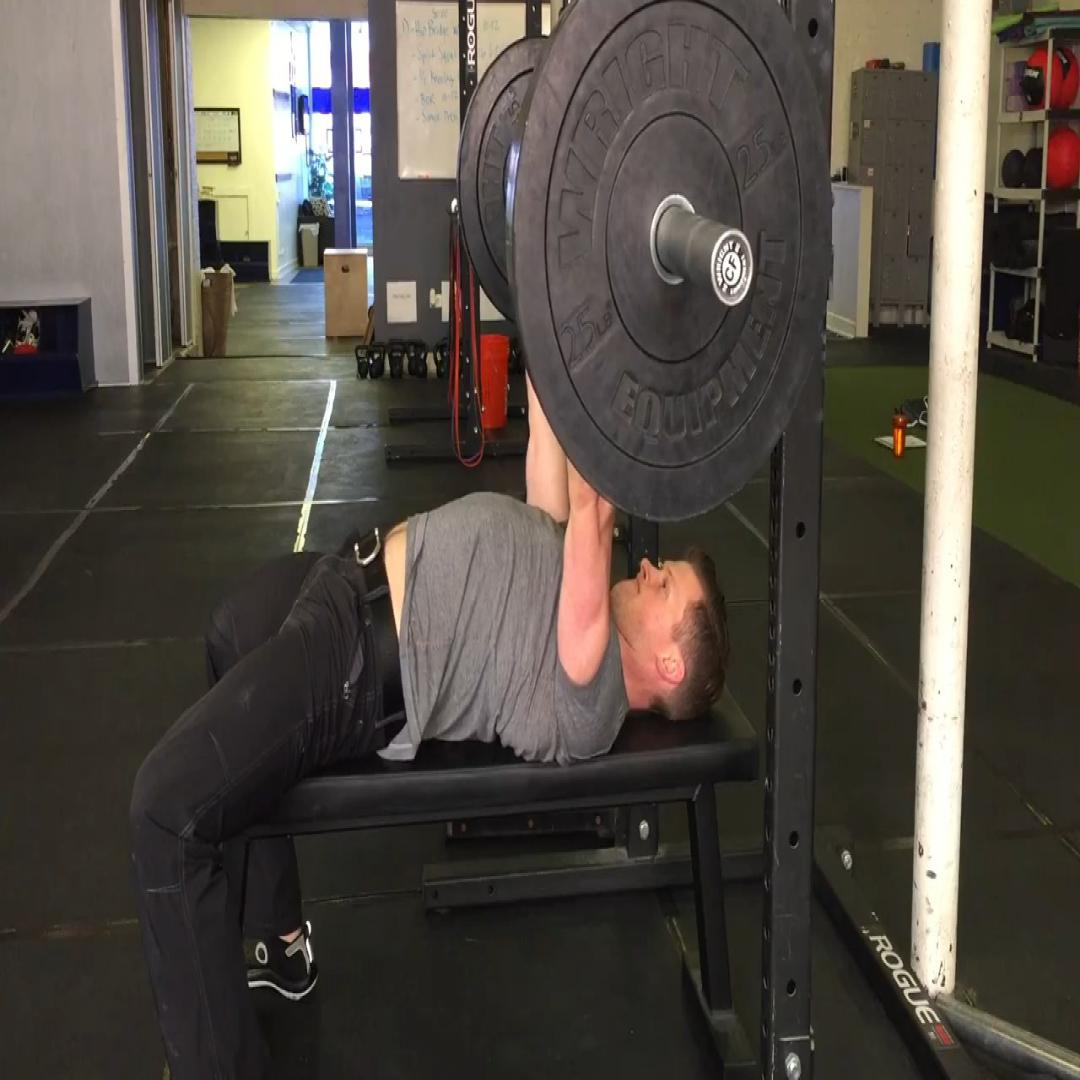Bar: (710, 225, 756, 309)
Barbell: (513, 0, 833, 524)
